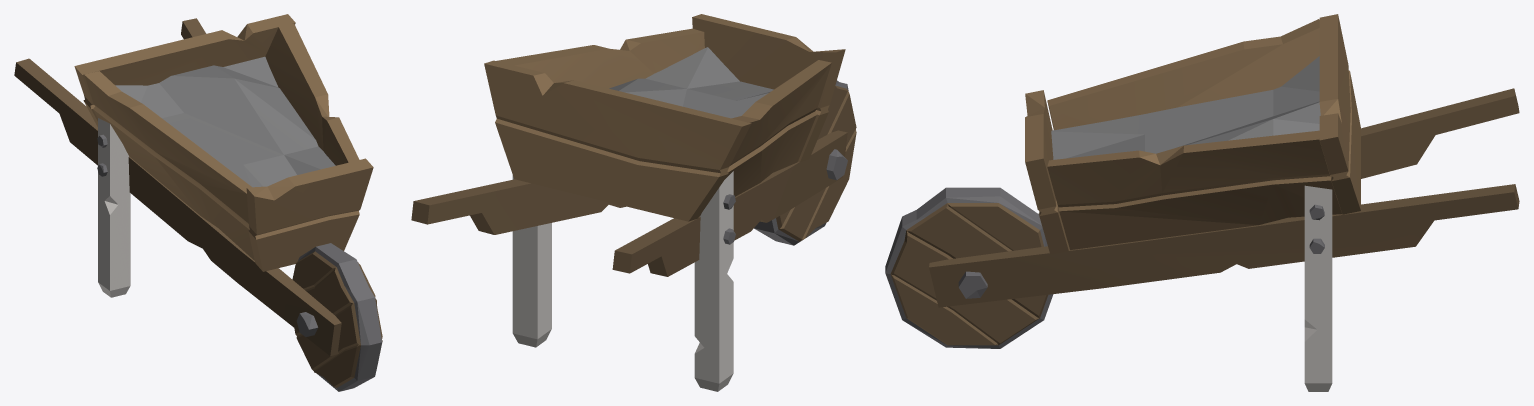
File: Carretilla_01.glb
The picture shows the model from 3 angles, left to right: view 1: azimuth 30°, elevation 25°; view 2: azimuth 150°, elevation 25°; view 3: azimuth 270°, elevation 25°; orthographic projection. The views are drawn at different scales.
Visible parts, largest first — view 1: SM_Prop_Wheel_Barrow_01; view 2: SM_Prop_Wheel_Barrow_01; view 3: SM_Prop_Wheel_Barrow_01.
Part boxes in pixels (box(x1,y1,x2,y2)): SM_Prop_Wheel_Barrow_01: box(14, 14, 382, 391); SM_Prop_Wheel_Barrow_01: box(411, 14, 856, 391); SM_Prop_Wheel_Barrow_01: box(885, 14, 1519, 391).
Size of the model in its own units: 0.9458 by 0.9668 by 2.06.
1 material, 1 textured.
